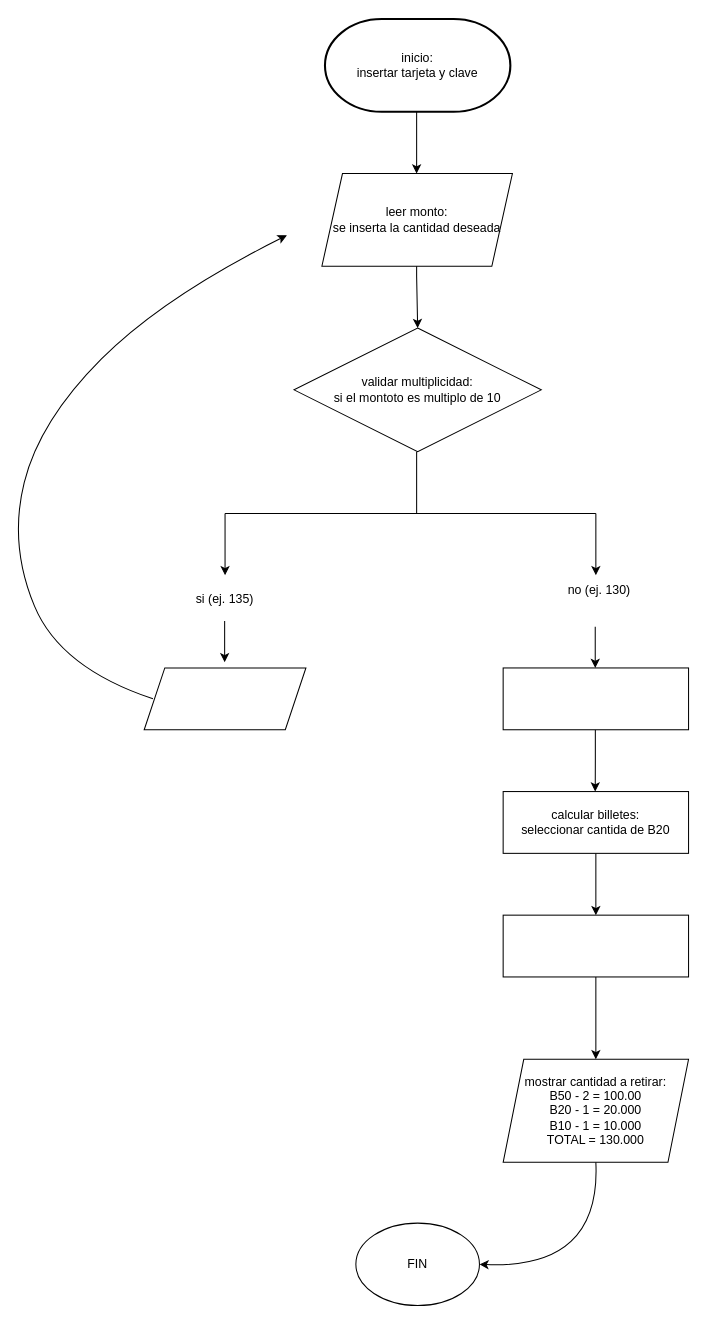
Image size: 707x1324. Some labels were removed from this diagram. The shapes that lost their labels are listed below. From the top down, each one's centre as x and y in pixels, then its label:
[224,698]: mostrar error : monto no valido
[595,698]: calcular billetes: seleccionar cantidad de B50
[595,945]: calcular billetes: seleccionar cantidad de B10
